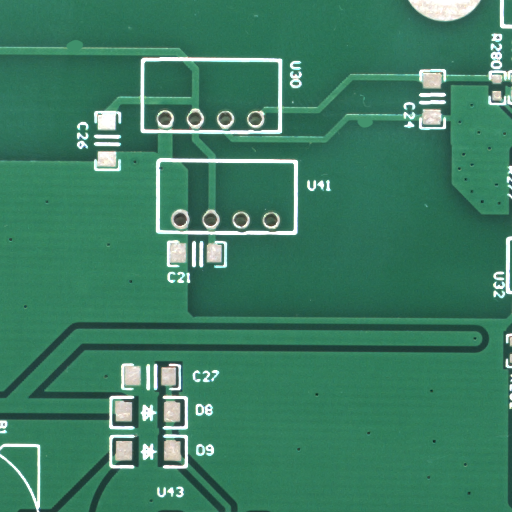Spur: (75, 44, 92, 54), (365, 123, 380, 132)
